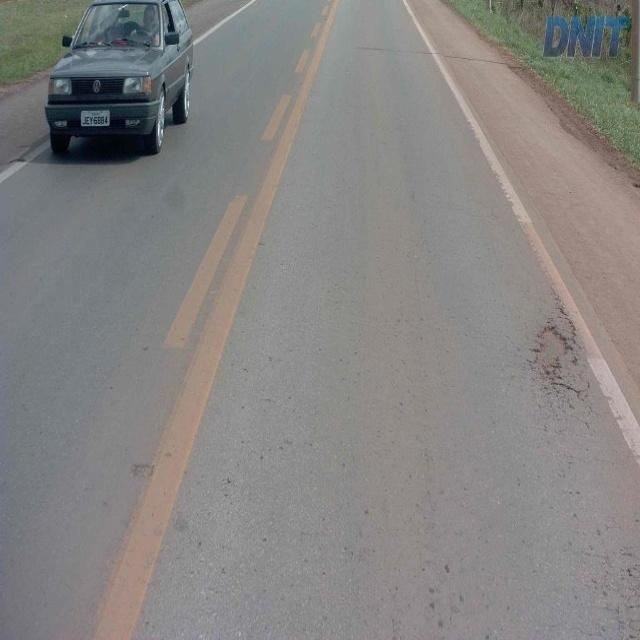pothole: (527, 314, 584, 392)
